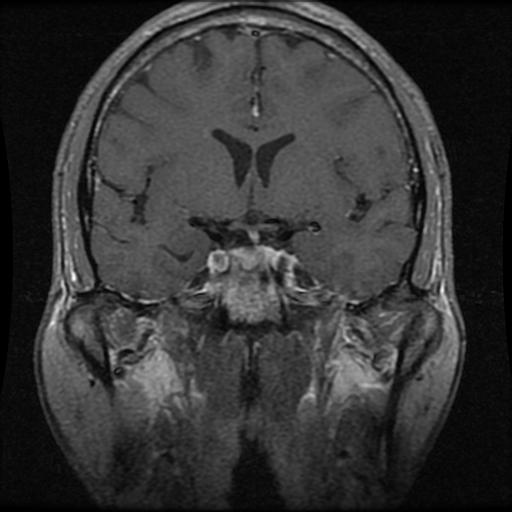Pituirity_tumour: (231, 246, 266, 266)
